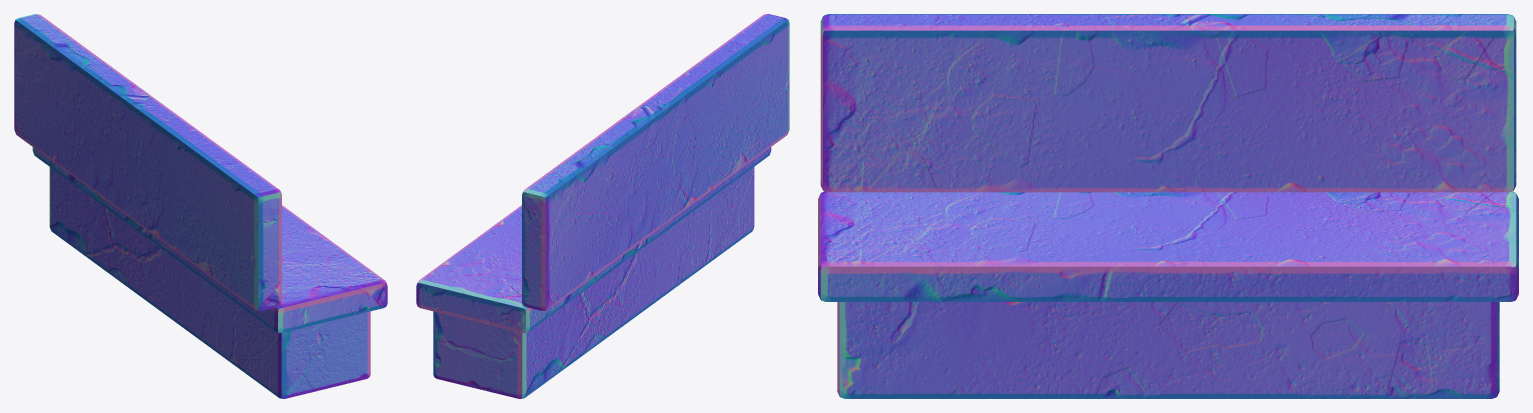
Rendered from Props_StoneBench.fbx.
3 renders of one model, left to right at view 1: azimuth 30°, elevation 25°; view 2: azimuth 150°, elevation 25°; view 3: azimuth 270°, elevation 25°, orthographic. The views are drawn at different scales.
Parts seen in each view (by area): view 1: CDTMesh_StoneBenchHP; view 2: CDTMesh_StoneBenchHP; view 3: CDTMesh_StoneBenchHP.
Boxes of the visible parts, x1=… form: CDTMesh_StoneBenchHP: x1=14, y1=14, x2=387, y2=398; CDTMesh_StoneBenchHP: x1=416, y1=14, x2=789, y2=398; CDTMesh_StoneBenchHP: x1=818, y1=14, x2=1518, y2=398.
Size of what is drawn, in the model's own units: 1.05 by 1.66 by 3.43.
